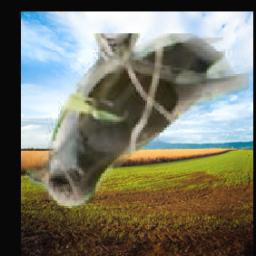Cuckoo: (25, 33, 249, 208)
